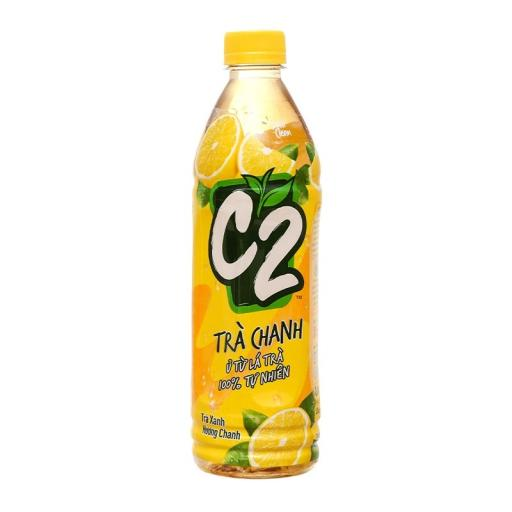bottle: (192, 31, 321, 477)
